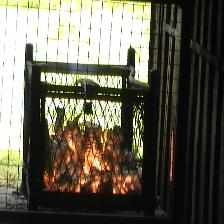fire: (79, 144, 106, 174)
